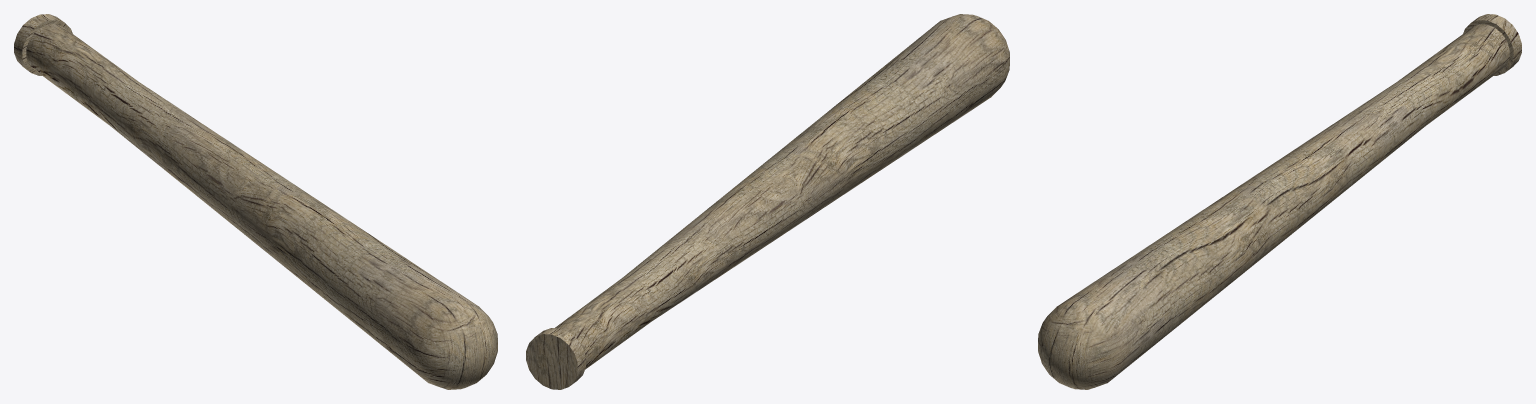
File: bat_01.fbx
The picture shows the model from 3 angles, left to right: view 1: azimuth 30°, elevation 25°; view 2: azimuth 150°, elevation 25°; view 3: azimuth 330°, elevation 25°; orthographic projection.
Parts seen in each view (by area): view 1: bat_01; view 2: bat_01; view 3: bat_01.
Boxes of the visible parts, x1,y1,x2,y2 form: bat_01: (14, 14, 497, 389); bat_01: (526, 14, 1009, 389); bat_01: (1038, 14, 1521, 389).
Bounding box in the file's own units: 15.56 × 15.8 × 150.
